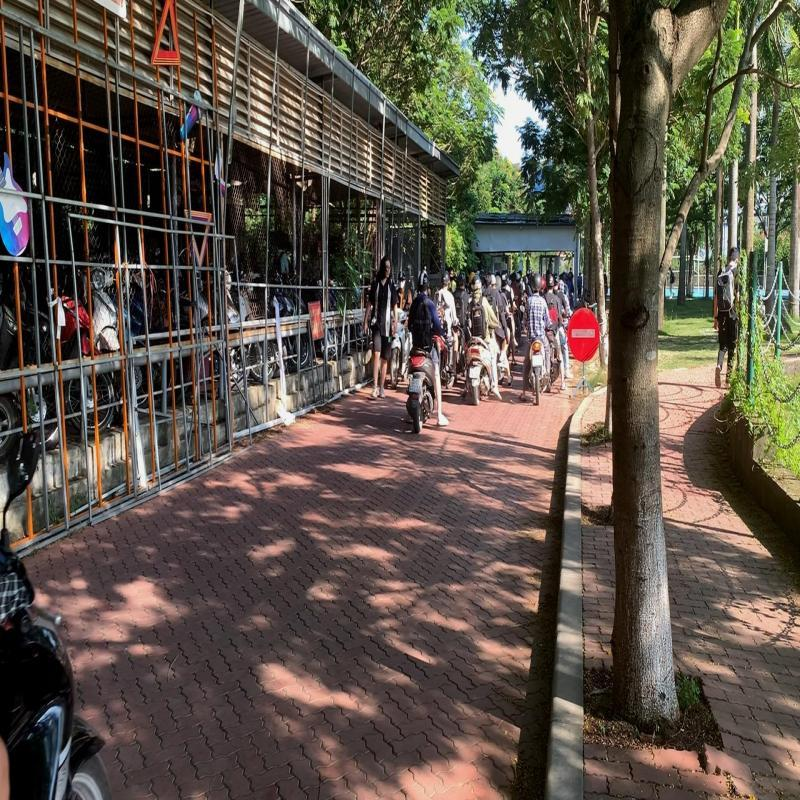helmet: (419, 270, 430, 294), (530, 272, 542, 292), (470, 276, 481, 296)
licenseplate: (409, 378, 422, 394), (470, 366, 480, 378), (532, 356, 543, 366)
motorcyclist: (406, 271, 450, 434), (462, 276, 504, 406), (520, 273, 552, 407)
